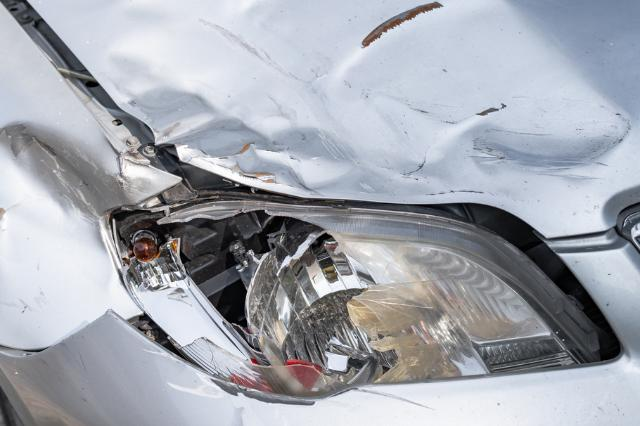Bonnet: (12, 0, 640, 350)
Fender: (0, 1, 178, 353)
Light: (115, 189, 622, 399)
